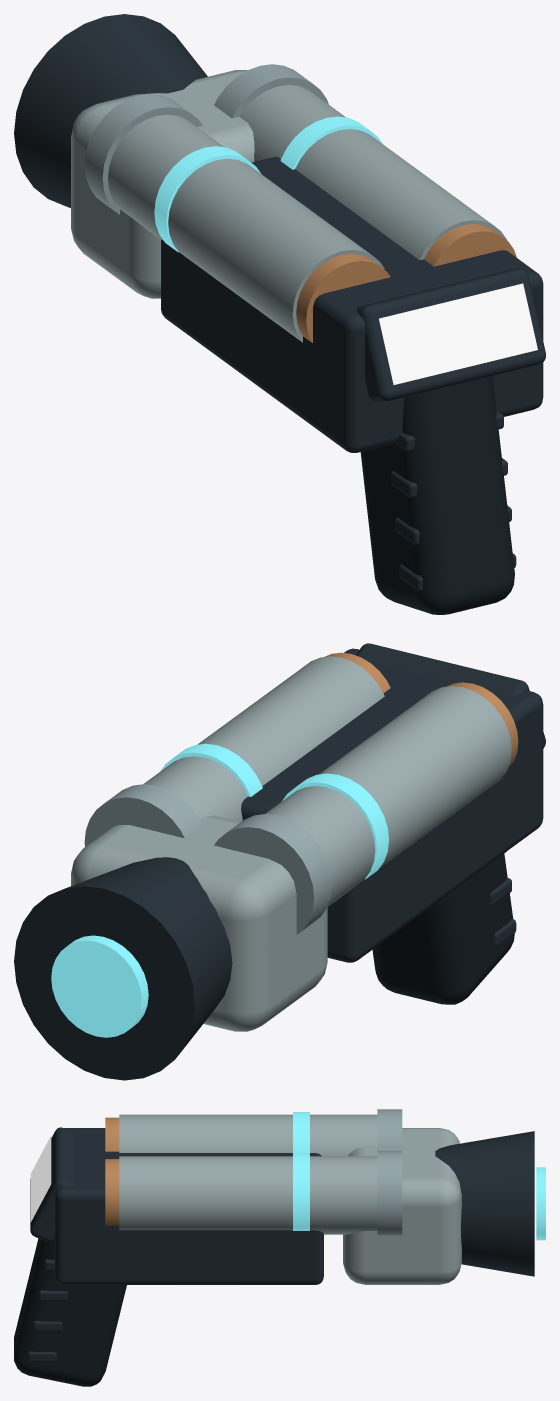
Rendered from instrument_2.glb.
3 renders of one model, top to bottom at view 1: azimuth 30°, elevation 25°; view 2: azimuth 150°, elevation 25°; view 3: azimuth 270°, elevation 25°, orthographic. The views are drawn at different scales.
Size of the model in its own units: 0.132 by 0.1913 by 0.3798.
